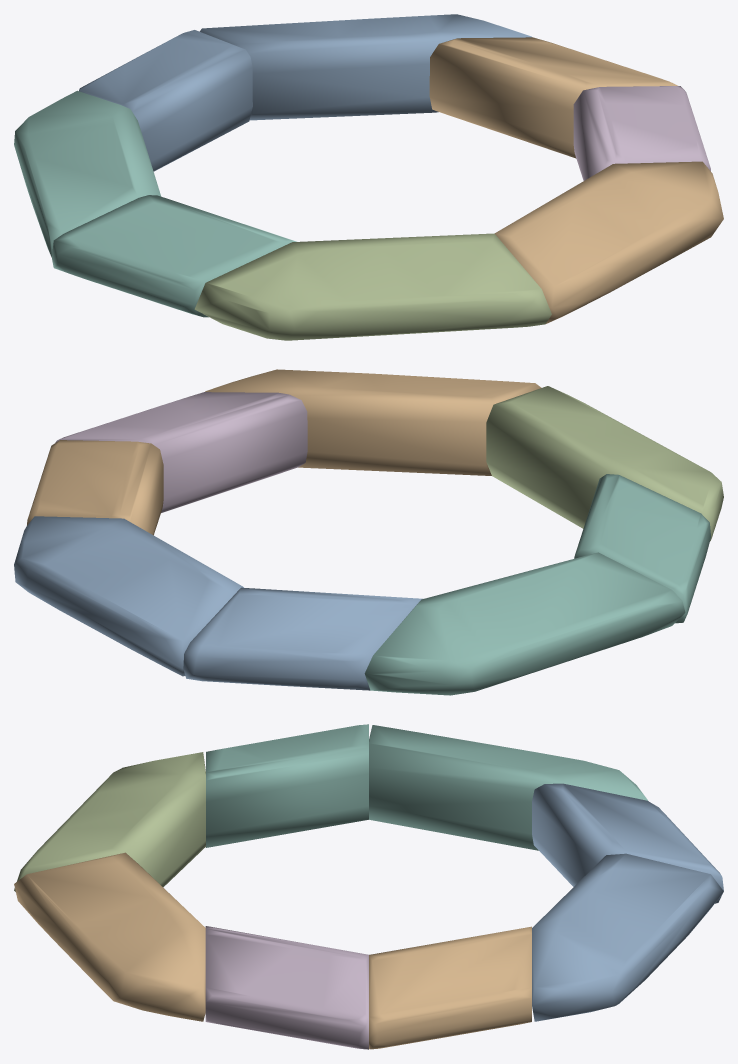
3 renders of one model, top to bottom at view 1: azimuth 30°, elevation 25°; view 2: azimuth 150°, elevation 25°; view 3: azimuth 270°, elevation 25°, orthographic. The views are drawn at different scales.
Bounding box in the file's own units: 2.01 × 0.221 × 2.01.
